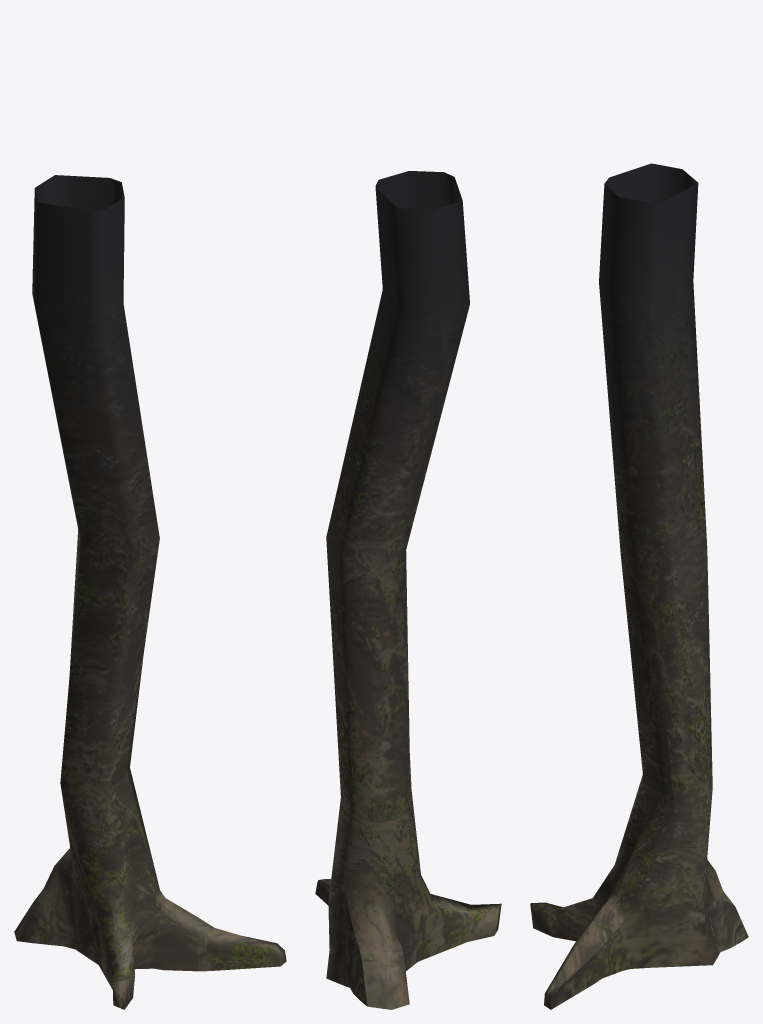
Rendered from Tree2.fbx.
The picture shows the model from 3 angles, left to right: view 1: azimuth 30°, elevation 25°; view 2: azimuth 150°, elevation 25°; view 3: azimuth 270°, elevation 25°; orthographic projection. The views are drawn at different scales.
Visible parts, largest first — view 1: Tree2; view 2: Tree2; view 3: Tree2.
Part boxes in pixels (<box>): Tree2: <box>14,175,286,1009</box>; Tree2: <box>315,171,501,1009</box>; Tree2: <box>530,163,748,1009</box>.
Bounding box in the file's own units: 2.02 × 8.85 × 1.94.
Materials: 1 (1 with a texture image).
